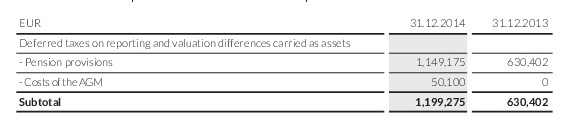table: (0, 0, 565, 134)
